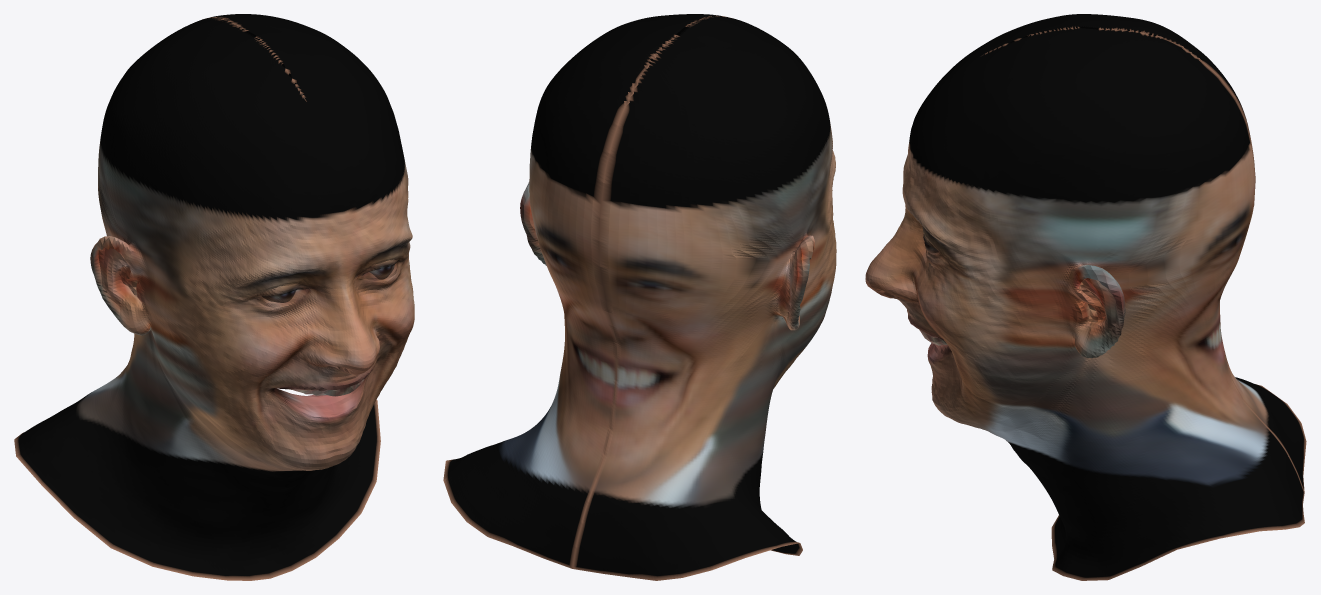
The model's file is mesh_coarse_detail.obj.
The picture shows the model from 3 angles, left to right: view 1: azimuth 30°, elevation 25°; view 2: azimuth 150°, elevation 25°; view 3: azimuth 270°, elevation 25°; orthographic projection.
Bounding box in the file's own units: 0.22 × 0.329 × 0.2476.
